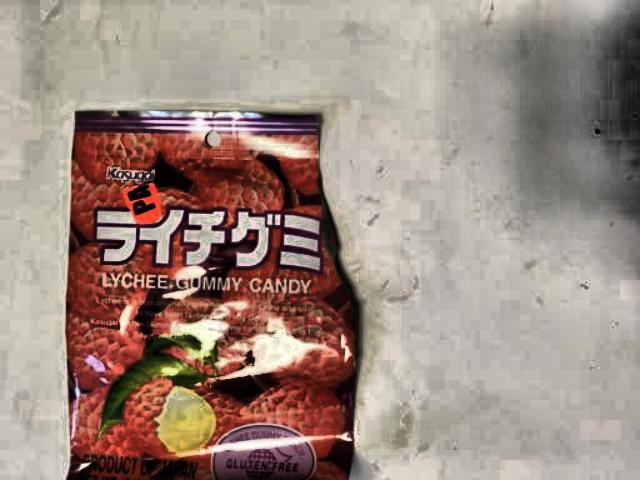Plastic: (40, 95, 390, 480)
